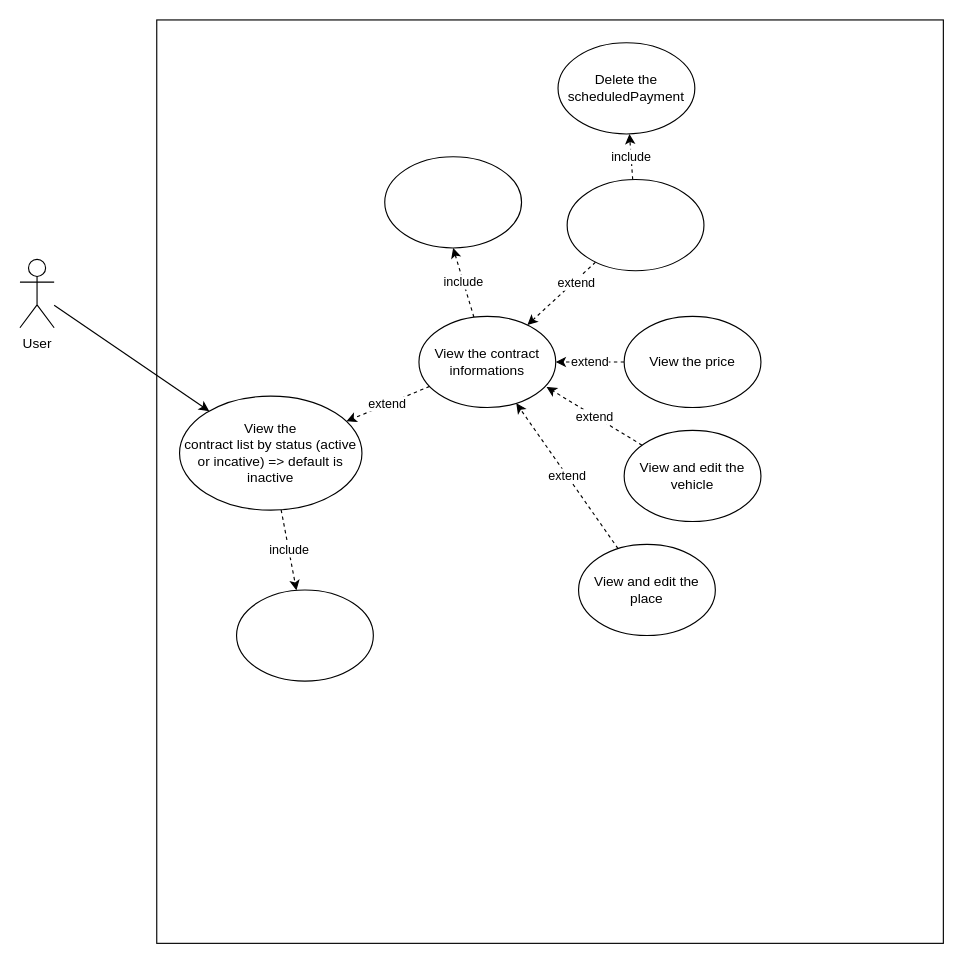
Image size: 963x963. Some labels were removed from this diagram. The shapes that lost their labels are listed below. From the top down, each one's box as (x1, y1, x2, y2) in pixels, then its label:
(384, 156, 522, 248): Edit the contract informations
(566, 178, 704, 271): View and edit the scheduledPayment
(235, 589, 373, 681): Delete a contract
